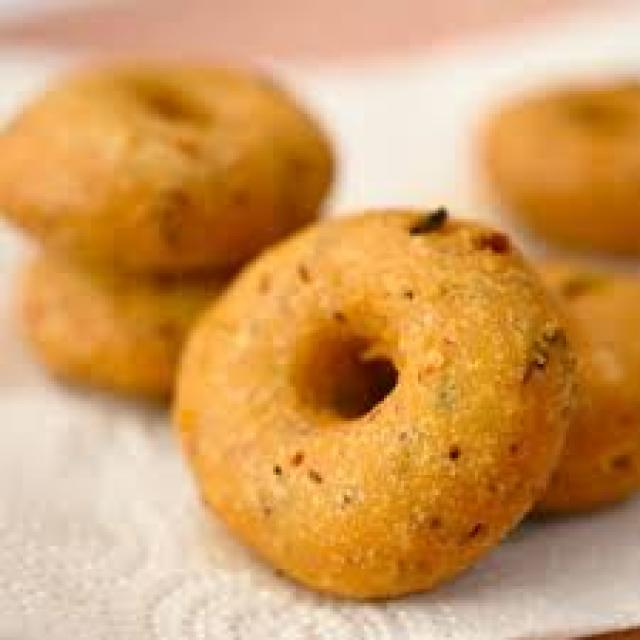MEDU VADA: (178, 204, 580, 603)
